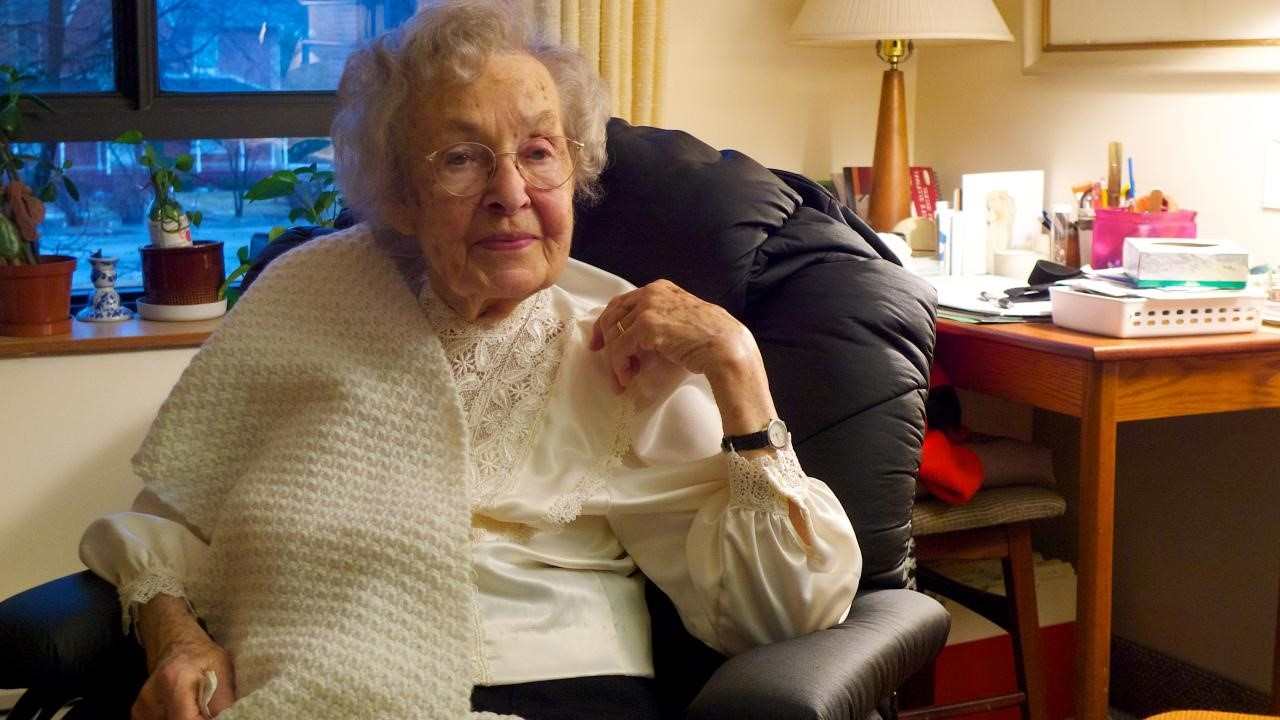face_no_mask: (384, 36, 589, 306)
